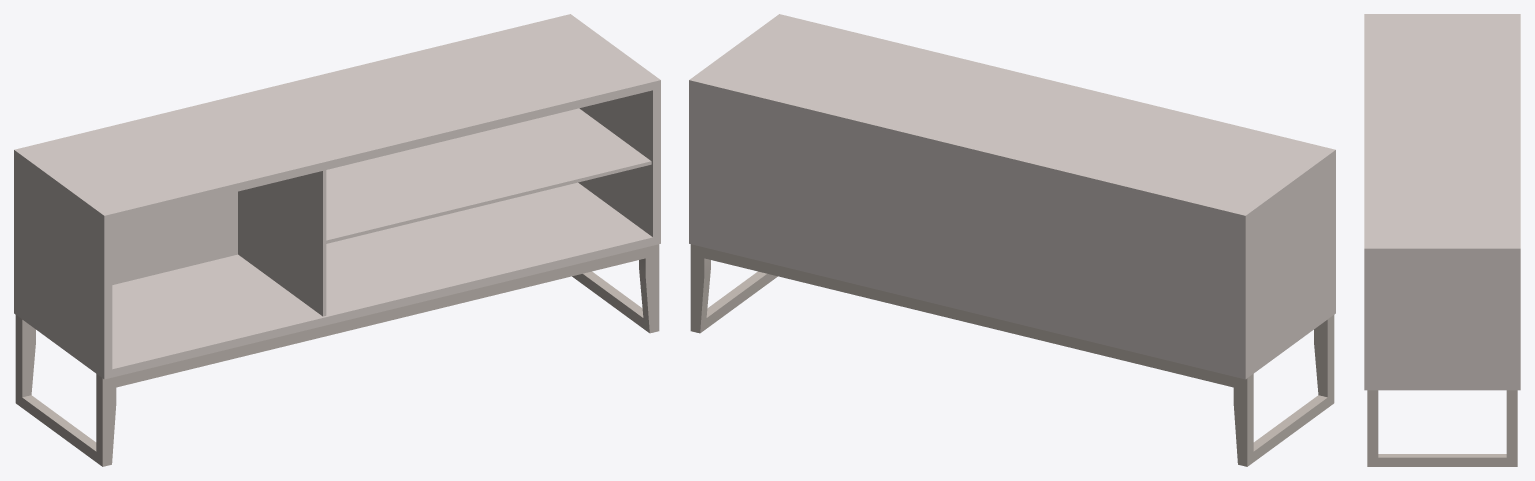
The model's file is Cupboard_22_01.fbx.
3 views of the same model, side by side, from view 1: azimuth 30°, elevation 25°; view 2: azimuth 150°, elevation 25°; view 3: azimuth 270°, elevation 25° (orthographic). The views are drawn at different scales.
Parts seen in each view (by area): view 1: Cupboard_22_01; view 2: Cupboard_22_01; view 3: Cupboard_22_01.
Part boxes in pixels (x1=…): Cupboard_22_01: x1=14, y1=14, x2=660, y2=466; Cupboard_22_01: x1=689, y1=14, x2=1335, y2=466; Cupboard_22_01: x1=1364, y1=14, x2=1520, y2=466.
Size of the model in its own units: 132 by 57.37 by 37.21.
